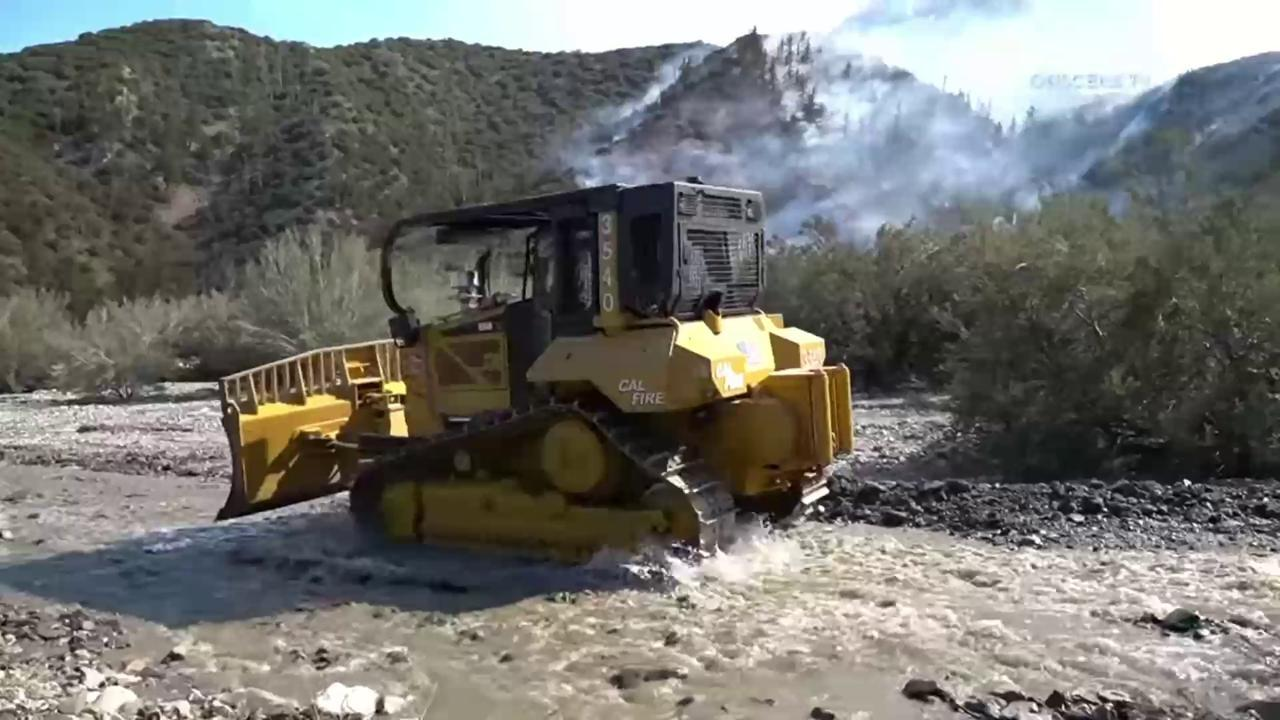smoke: (558, 1, 1186, 253)
